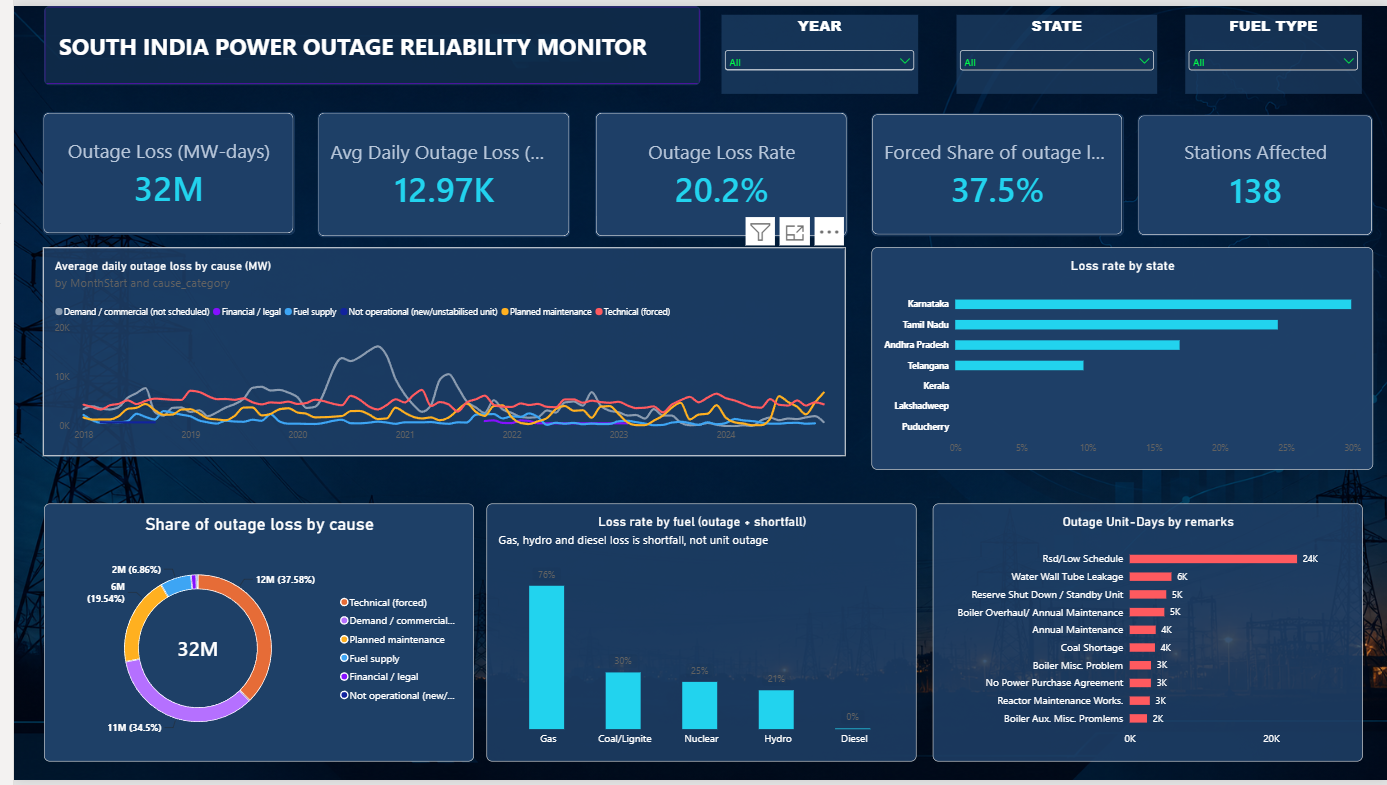

The dashboard page shown, as its layout file describes it:
{"tool":"powerbi","page":{"name":"Executive Overview","canvas":[1920,1080],"ordinal":0},"visuals":[{"type":"shape","box":[42,0,916,110],"z":0},{"type":"slicer","title":"YEAR","fields":{"Values":["Dim_Date.Year"]},"box":[986.5,11.7,274,110],"z":1000},{"type":"slicer","title":"FUEL TYPE","fields":{"Values":["Dim_Fuel.fuel_type"]},"box":[1634.7,11.7,246,110],"z":2000},{"type":"slicer","title":"STATE","fields":{"Values":["Dim_State.state_name"]},"box":[1314.8,11.7,280,110],"z":3000},{"type":"cardVisual","fields":{"Data":["_Measures.Stations Affected"]},"box":[1567.7,152.4,328.3,169.2],"z":4000},{"type":"cardVisual","fields":{"Data":["_Measures.Forced Share %"]},"box":[1195.9,150.7,351.7,170.8],"z":5000},{"type":"cardVisual","fields":{"Data":["_Measures.Outage Loss Rate %"]},"box":[810.7,149.1,352,174],"z":6000},{"type":"cardVisual","fields":{"Data":["_Measures.Avg Daily Loss MW"]},"box":[423.8,147.4,352,174],"z":7000},{"type":"lineChart","fields":{"Category":["Dim_Date.MonthStart"],"Series":["Data.cause_category"],"Y":["_Measures.Avg Daily Loss MW"]},"box":[40.2,336.7,1120,292],"z":8000},{"type":"clusteredBarChart","title":"Loss rate by state ","fields":{"Category":["Data.state_name"],"Y":["_Measures.Outage Loss Rate %"]},"box":[1195.9,336.7,700,310],"z":9000},{"type":"donutChart","title":"Share of outage loss by cause","fields":{"Category":["Data.cause_category"],"Y":["_Measures.Outage Loss"]},"box":[41.9,693.4,600,360],"z":10000},{"type":"clusteredColumnChart","title":"Loss rate by fuel (outage + shortfall)","fields":{"Category":["Data.fuel_type"],"Y":["_Measures.Loss Rate %"]},"box":[659.9,693.4,600,360],"z":11000},{"type":"barChart","fields":{"Category":["Data.remarks"],"Y":["_Measures.Outage Unit-Days"]},"box":[1281.3,693.4,600,360],"z":12000},{"type":"cardVisual","fields":{"Data":["_Measures.Outage Loss"]},"box":[40.1,148.3,351.7,170.8],"z":13000}]}

Visuals, with their boxes in screenshot pixels (x1, y1, x2, y2), scaled from the page's 1920x1080 canvas onto the 1387x785 screenshot:
shape: x1=30 y1=0 x2=692 y2=80
"YEAR" slicer: x1=713 y1=9 x2=911 y2=88
"FUEL TYPE" slicer: x1=1181 y1=9 x2=1359 y2=88
"STATE" slicer: x1=950 y1=9 x2=1152 y2=88
cardVisual - _Measures.Stations Affected: x1=1132 y1=111 x2=1370 y2=234
cardVisual - _Measures.Forced Share %: x1=864 y1=110 x2=1118 y2=234
cardVisual - _Measures.Outage Loss Rate %: x1=586 y1=108 x2=840 y2=235
cardVisual - _Measures.Avg Daily Loss MW: x1=306 y1=107 x2=560 y2=234
lineChart - Dim_Date.MonthStart x Data.cause_category: x1=29 y1=245 x2=838 y2=457
"Loss rate by state " clusteredBarChart: x1=864 y1=245 x2=1370 y2=470
"Share of outage loss by cause" donutChart: x1=30 y1=504 x2=464 y2=766
"Loss rate by fuel (outage + shortfall)" clusteredColumnChart: x1=477 y1=504 x2=910 y2=766
barChart - Data.remarks x _Measures.Outage Unit-Days: x1=926 y1=504 x2=1359 y2=766
cardVisual - _Measures.Outage Loss: x1=29 y1=108 x2=283 y2=232
